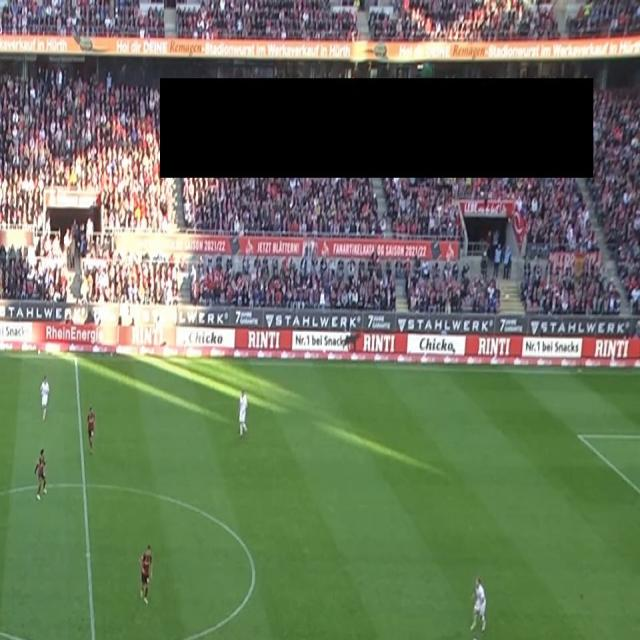ball: (471, 636, 478, 640)
